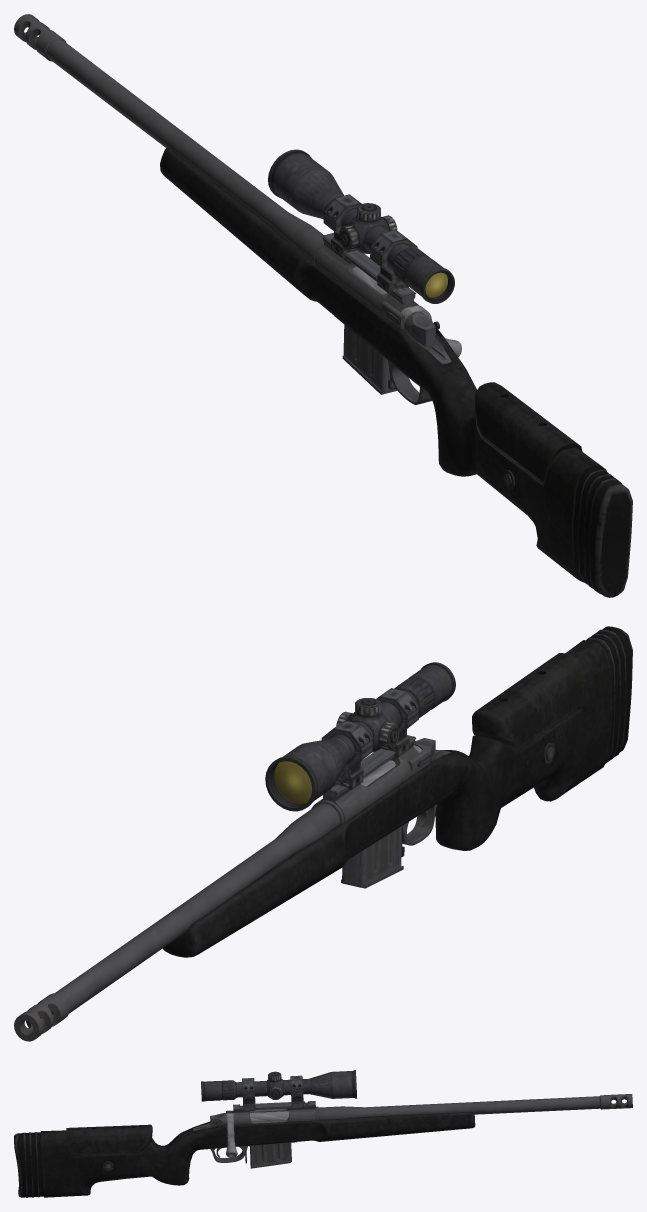
The model's file is sniper.glb.
The picture shows the model from 3 angles, top to bottom: view 1: azimuth 30°, elevation 25°; view 2: azimuth 150°, elevation 25°; view 3: azimuth 270°, elevation 25°; orthographic projection. The views are drawn at different scales.
Parts seen in each view (by area): view 1: base_sniper_0, scope_sniper_0, mag_sniper_0, boltrear_sniper_0; view 2: base_sniper_0, scope_sniper_0, mag_sniper_0; view 3: base_sniper_0, scope_sniper_0, mag_sniper_0, bolt_sniper_0.
Part boxes in pixels (left/top/right/bottom): base_sniper_0: left=14, top=14, right=632, bottom=597; scope_sniper_0: left=268, top=149, right=454, bottom=303; mag_sniper_0: left=342, top=325, right=396, bottom=394; boltrear_sniper_0: left=404, top=311, right=435, bottom=348; base_sniper_0: left=14, top=626, right=632, bottom=1041; scope_sniper_0: left=265, top=662, right=455, bottom=811; mag_sniper_0: left=341, top=827, right=403, bottom=888; base_sniper_0: left=14, top=1094, right=632, bottom=1197; scope_sniper_0: left=201, top=1070, right=356, bottom=1111; mag_sniper_0: left=249, top=1143, right=291, bottom=1168; bolt_sniper_0: left=226, top=1111, right=288, bottom=1157.
Size of the model in its own units: 0.0817 by 0.2225 by 1.02.
1 material, 1 textured.
